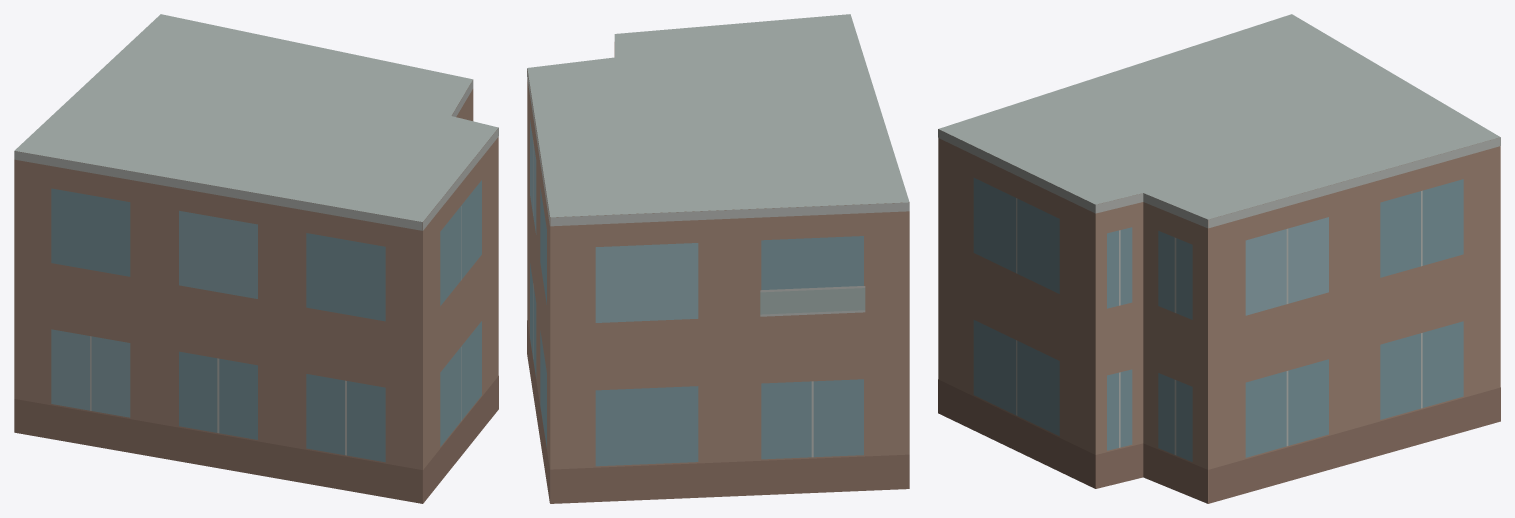
The model's file is survey-upis-32641896.glb.
3 renders of one model, left to right at view 1: azimuth 30°, elevation 25°; view 2: azimuth 150°, elevation 25°; view 3: azimuth 270°, elevation 25°, orthographic.
Visible parts, largest first — view 1: survey-upis-32641896.tmp; view 2: survey-upis-32641896.tmp; view 3: survey-upis-32641896.tmp.
Boxes of the visible parts, x1,y1,x2,y2 form: survey-upis-32641896.tmp: (14, 14, 498, 503); survey-upis-32641896.tmp: (527, 14, 909, 503); survey-upis-32641896.tmp: (938, 14, 1500, 503).
Bounding box in the file's own units: 12.11 × 7.8 × 14.
